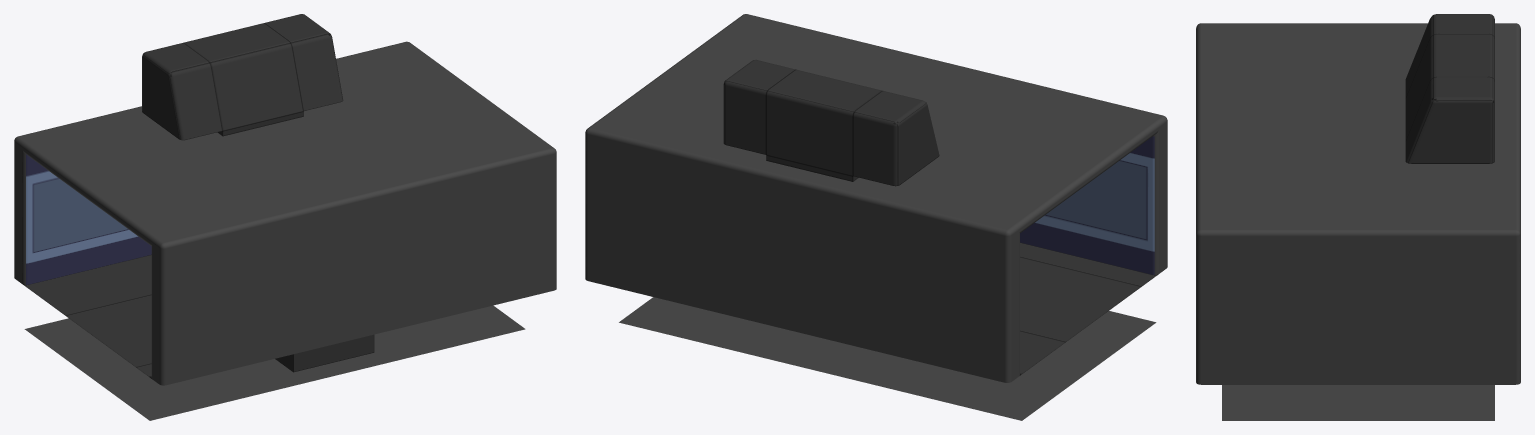
Rendered from SSCLiftHead1.fbx.
The picture shows the model from 3 angles, left to right: view 1: azimuth 30°, elevation 25°; view 2: azimuth 150°, elevation 25°; view 3: azimuth 270°, elevation 25°; orthographic projection. The views are drawn at different scales.
Visible parts, largest first — view 1: SSCLiftHead1; view 2: SSCLiftHead1; view 3: SSCLiftHead1.
Part boxes in pixels (<box>): SSCLiftHead1: <box>14,14,556,420</box>; SSCLiftHead1: <box>585,14,1167,420</box>; SSCLiftHead1: <box>1196,14,1520,420</box>.
Bounding box in the file's own units: 957 × 575 × 625.
